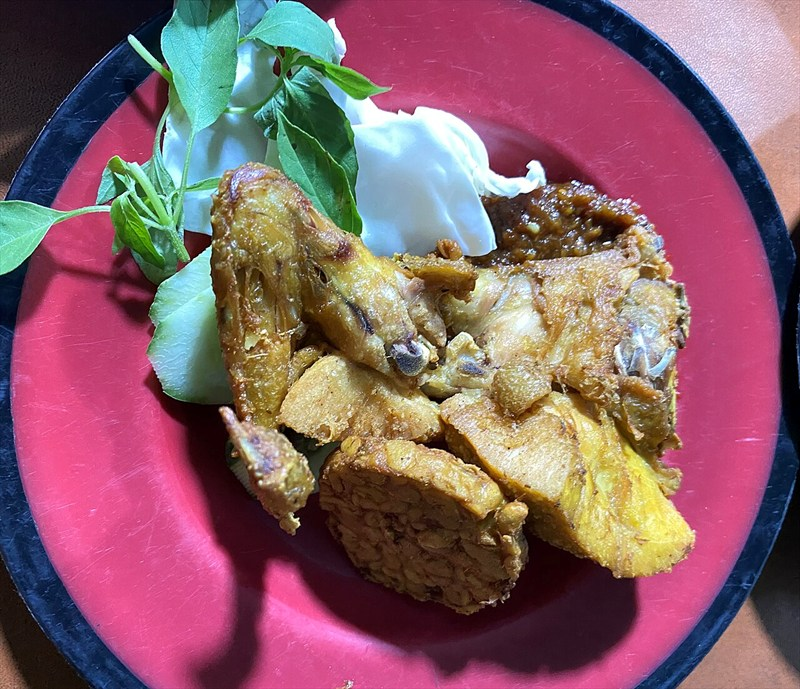Ayam Goreng: (122, 51, 683, 575)
